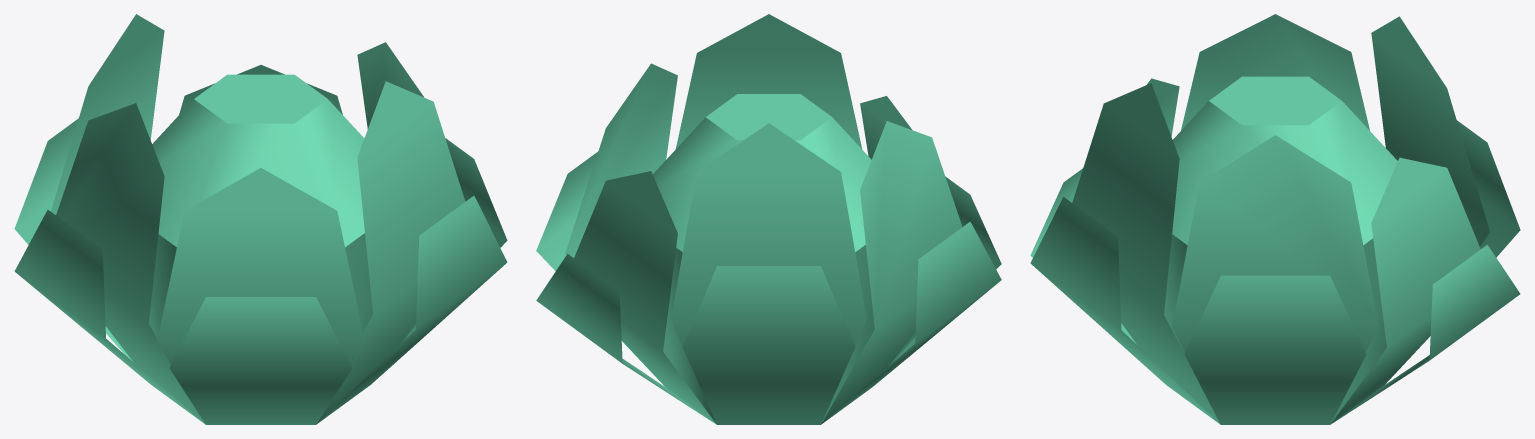
Rendered from cabbage.glb.
3 renders of one model, left to right at view 1: azimuth 30°, elevation 25°; view 2: azimuth 150°, elevation 25°; view 3: azimuth 270°, elevation 25°, orthographic. The views are drawn at different scales.
Parts seen in each view (by area): view 1: cabbage; view 2: cabbage; view 3: cabbage.
Boxes of the visible parts, x1,y1,x2,y2 form: cabbage: (14, 14, 507, 424); cabbage: (536, 14, 1001, 424); cabbage: (1030, 14, 1520, 424).
Bounding box in the file's own units: 0.3794 × 0.3074 × 0.4036.
